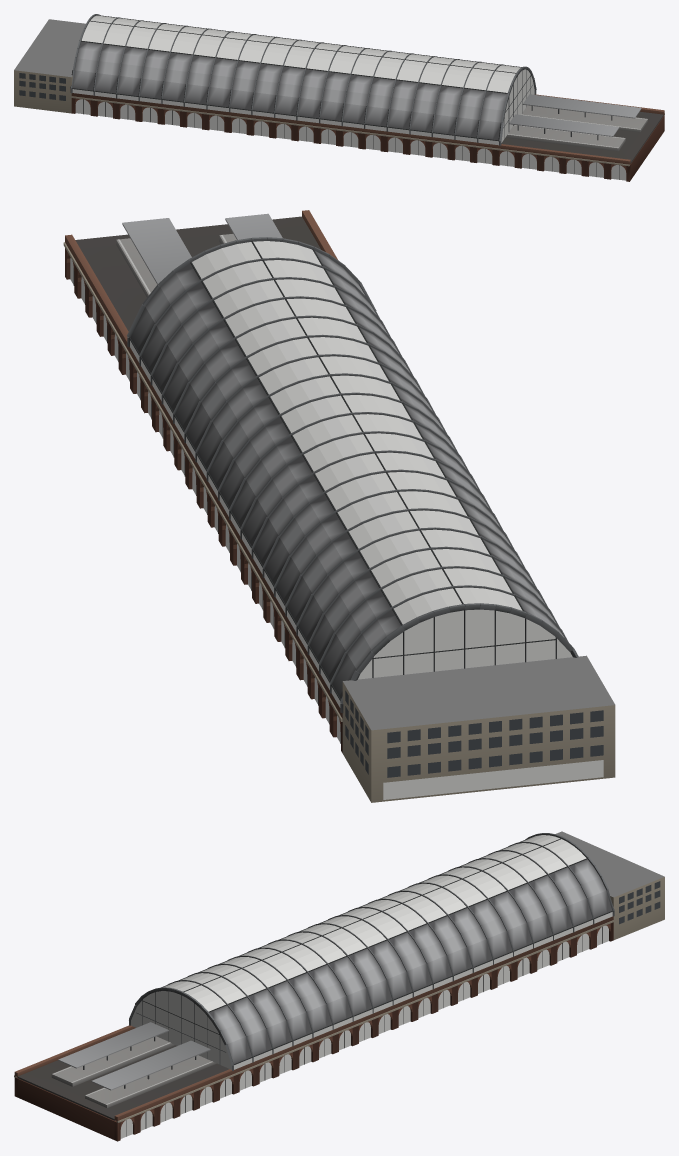
Rendered from bahnhof_alexanderplatz.glb.
The picture shows the model from 3 angles, top to bottom: view 1: azimuth 30°, elevation 25°; view 2: azimuth 150°, elevation 25°; view 3: azimuth 270°, elevation 25°; orthographic projection. The views are drawn at different scales.
Parts seen in each view (by area): view 1: lack, glas; view 2: lack, glas; view 3: lack, glas.
Part boxes in pixels (left/top/right/bottom): lack: left=14, top=14, right=664, bottom=181; glas: left=72, top=15, right=626, bottom=180; lack: left=63, top=210, right=615, bottom=802; glas: left=70, top=241, right=603, bottom=799; lack: left=14, top=831, right=664, bottom=1141; glas: left=120, top=835, right=612, bottom=1138.
Size of the model in its own units: 174 by 24.44 by 179.
